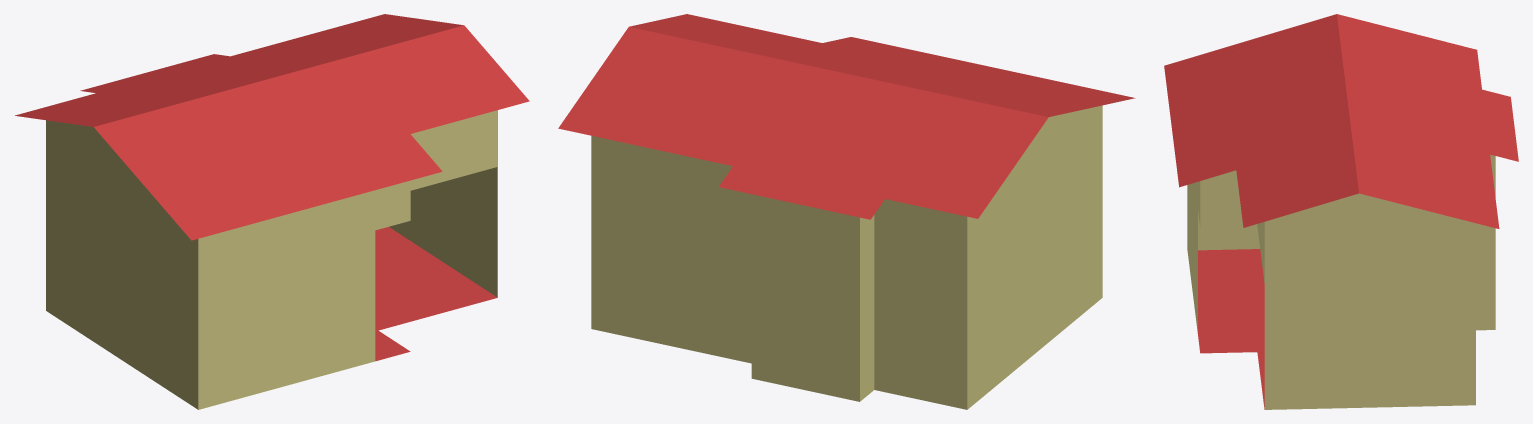
3 renders of one model, left to right at view 1: azimuth 30°, elevation 25°; view 2: azimuth 150°, elevation 25°; view 3: azimuth 270°, elevation 25°, orthographic. The views are drawn at different scales.
Bounding box in the file's own units: 19.68 × 15.94 × 11.1.
